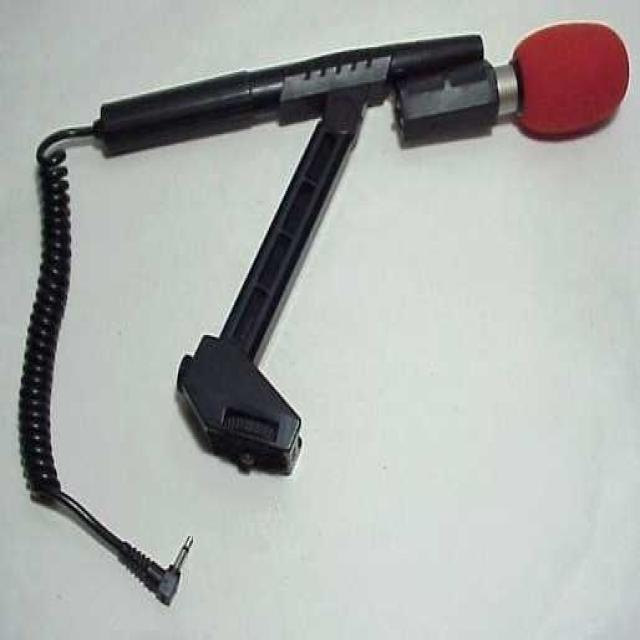microphone: (70, 25, 616, 156)
